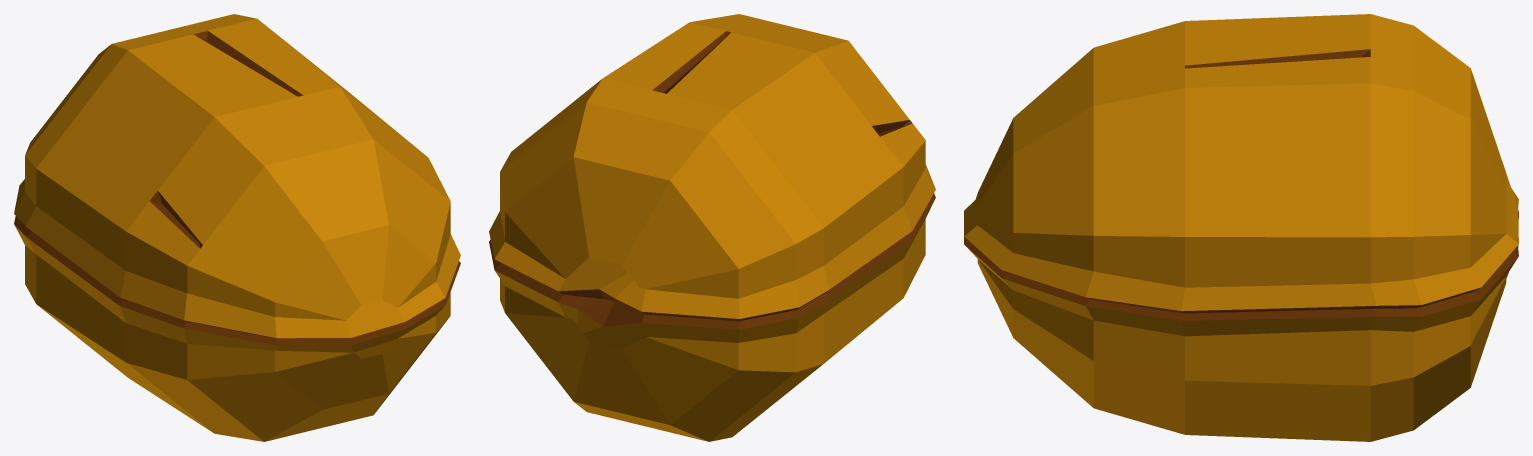
Rendered from walnut01.obj.
3 renders of one model, left to right at view 1: azimuth 30°, elevation 25°; view 2: azimuth 150°, elevation 25°; view 3: azimuth 270°, elevation 25°, orthographic. The views are drawn at different scales.
Parts seen in each view (by area): view 1: Cylinder.001; view 2: Cylinder.001; view 3: Cylinder.001.
Boxes of the visible parts, bbox=[...] form: Cylinder.001: bbox=[14, 14, 460, 441]; Cylinder.001: bbox=[489, 14, 935, 441]; Cylinder.001: bbox=[964, 14, 1518, 441].
Bounding box in the file's own units: 0.0325 × 0.031 × 0.0434.
1 material, 1 textured.
